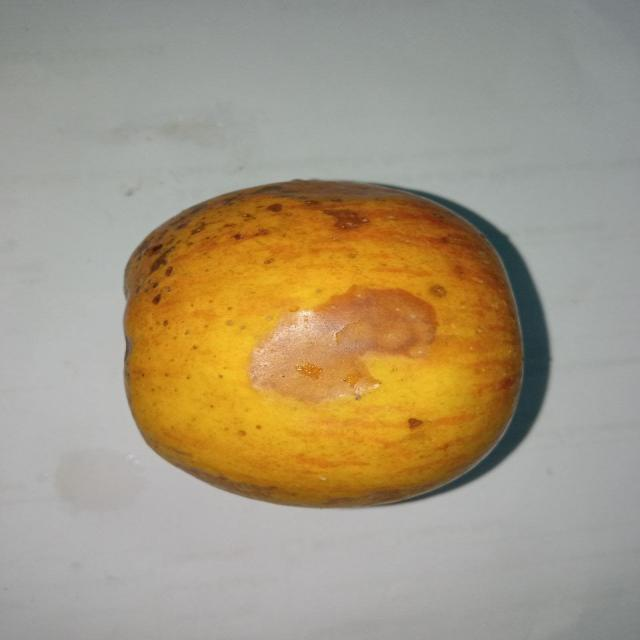rotten_apple: (115, 178, 529, 506)
